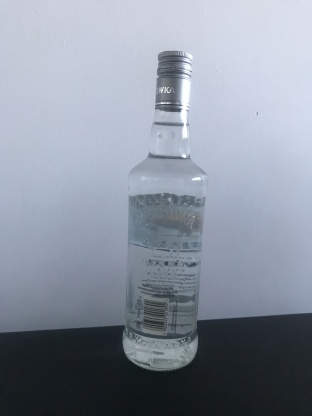nakretka: (154, 48, 193, 112)
